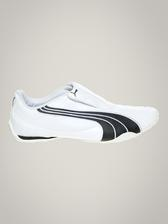shoes: (5, 80, 162, 144)
